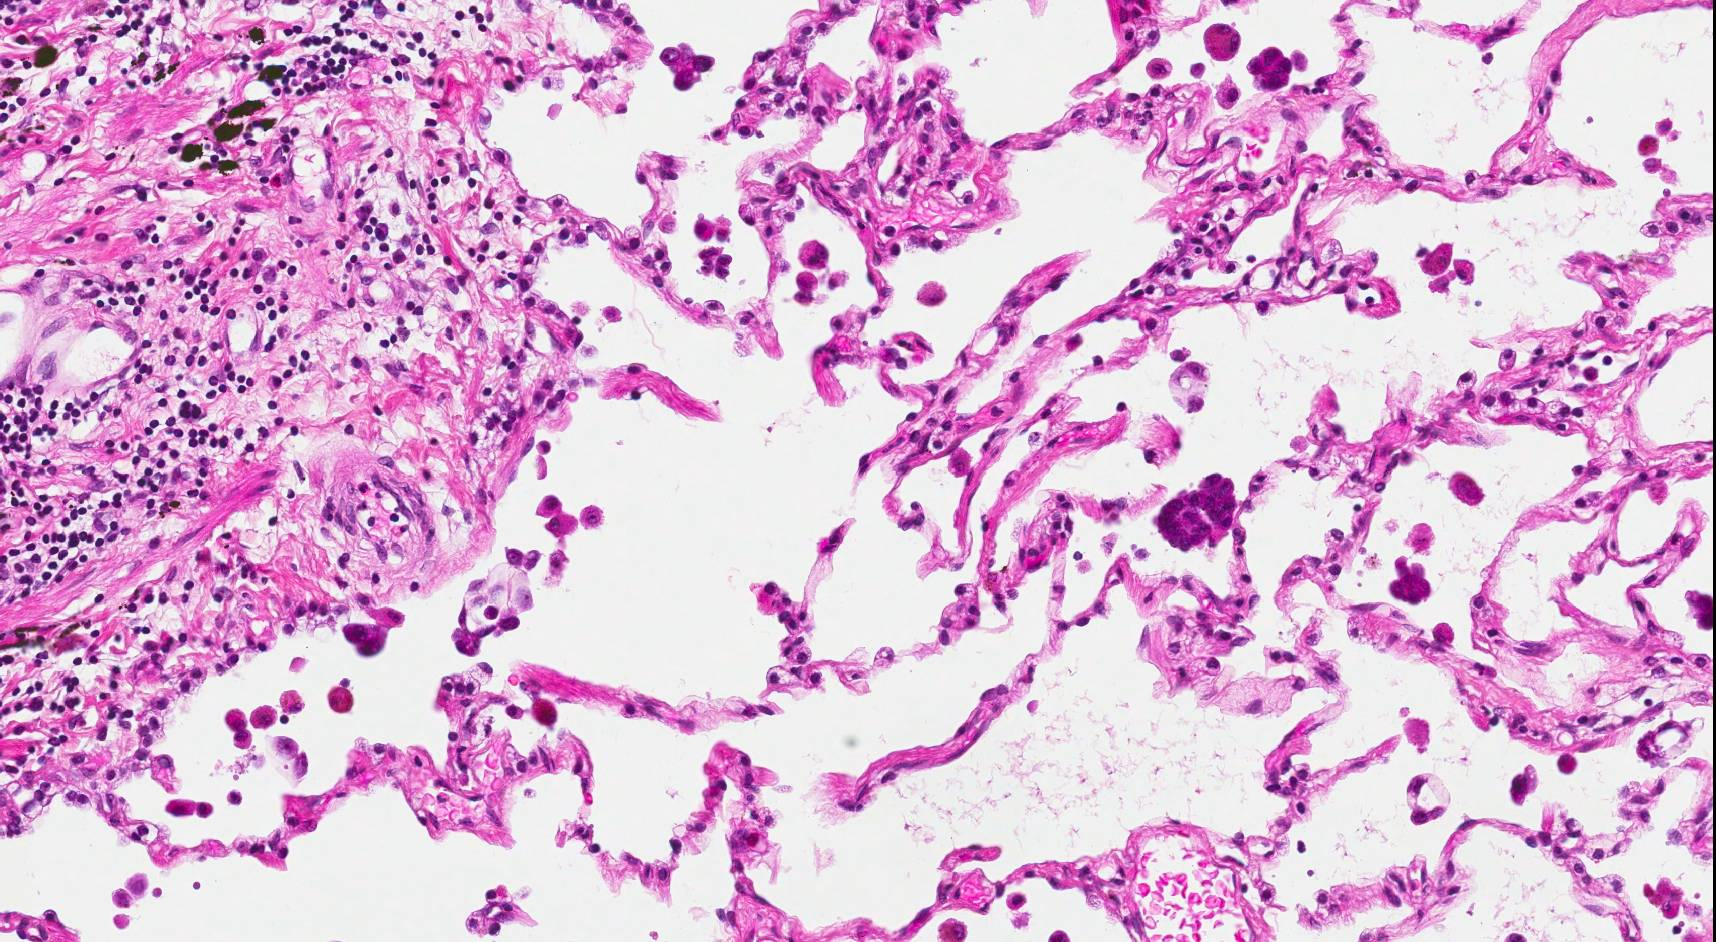stas: (1154, 471, 1241, 555), (657, 33, 718, 96), (341, 611, 399, 667), (1243, 40, 1303, 92), (1388, 550, 1435, 607), (694, 243, 739, 283)
